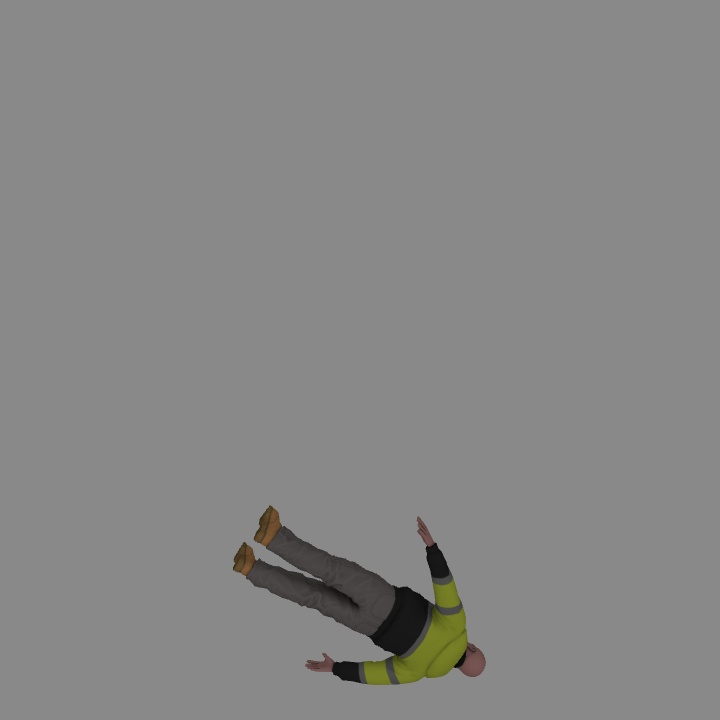victim: (235, 504, 487, 681)
